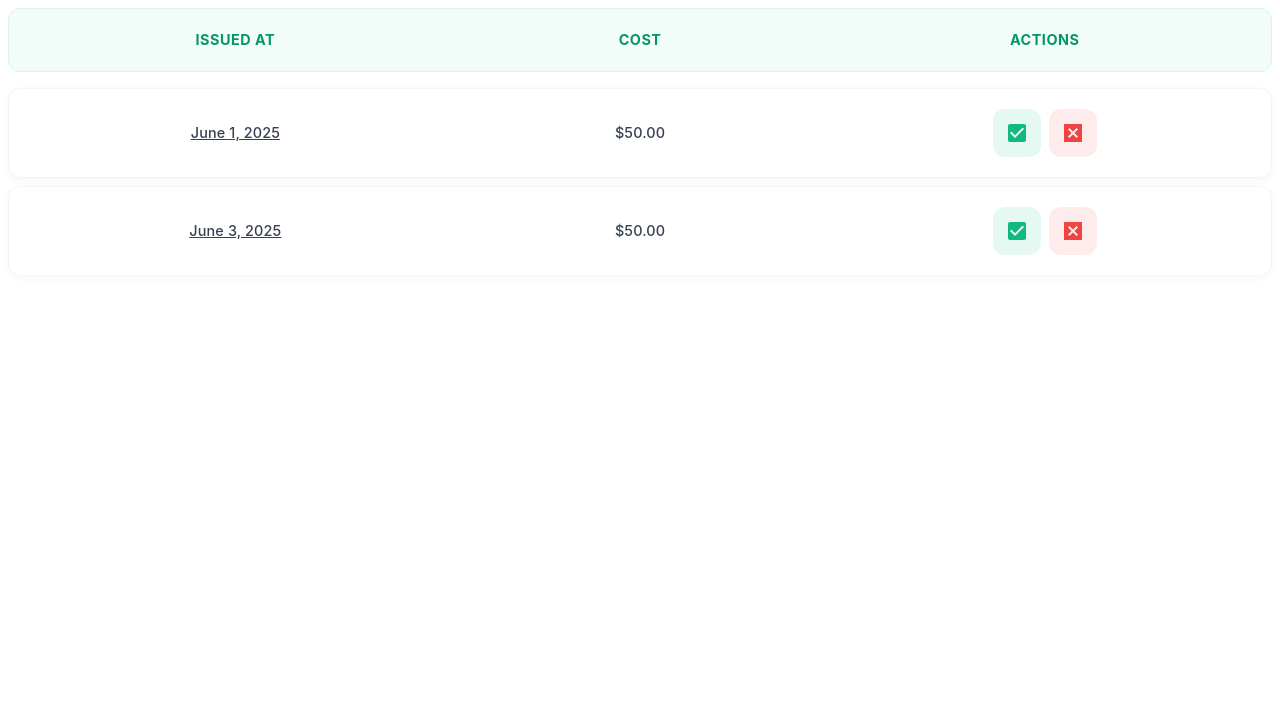
Test: Challenge description opens correctly on click of issue date
The image size is (1280, 720).
Expected: the text "June 3, 2025" is shown, top-left (189, 222), bottom-right (281, 239)
Click the text named "open-desc0".
click(235, 132)  # box top-left (191, 124), bottom-right (280, 141)
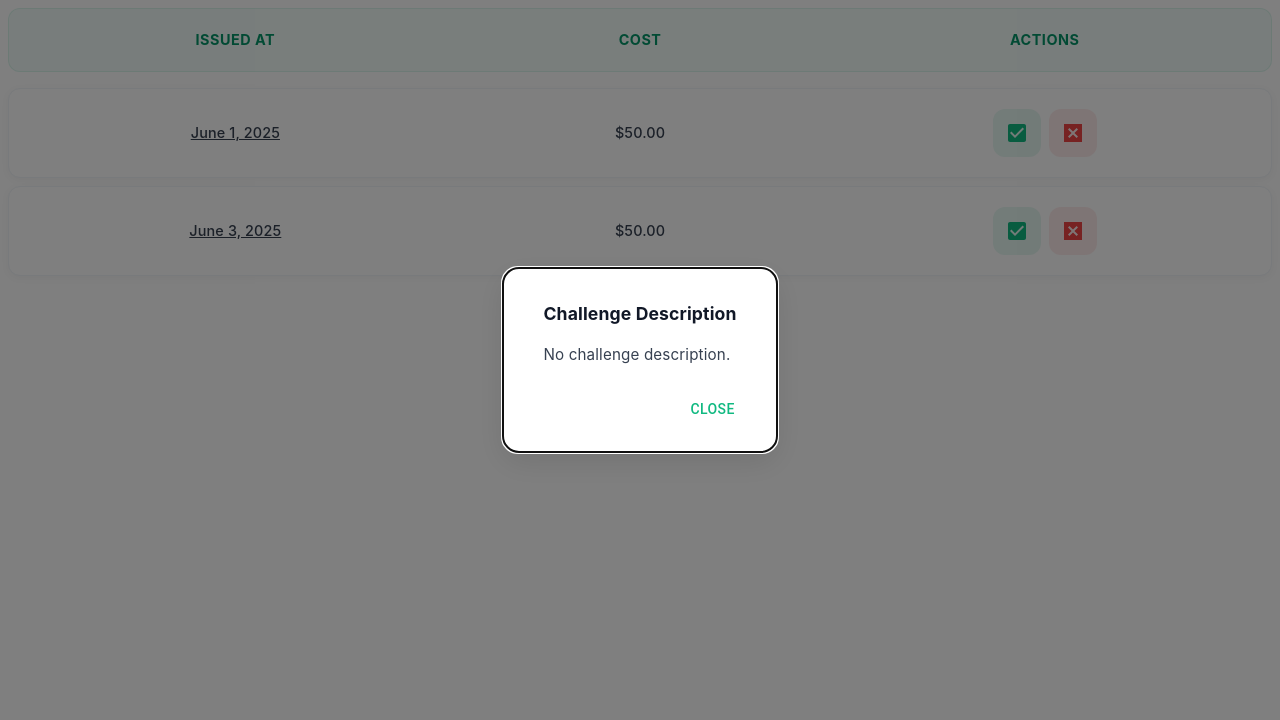
Expected: the heading "Challenge Description" is shown, top-left (543, 303), bottom-right (736, 324)
